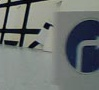right: (65, 19, 99, 74)
